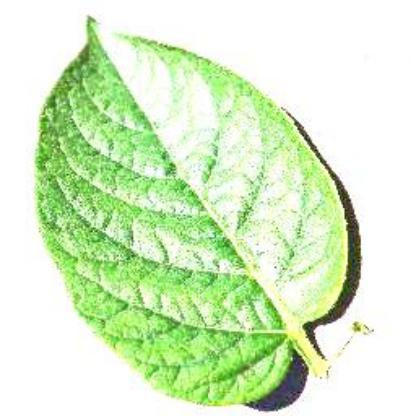Healthy-plant: (44, 20, 358, 408)
